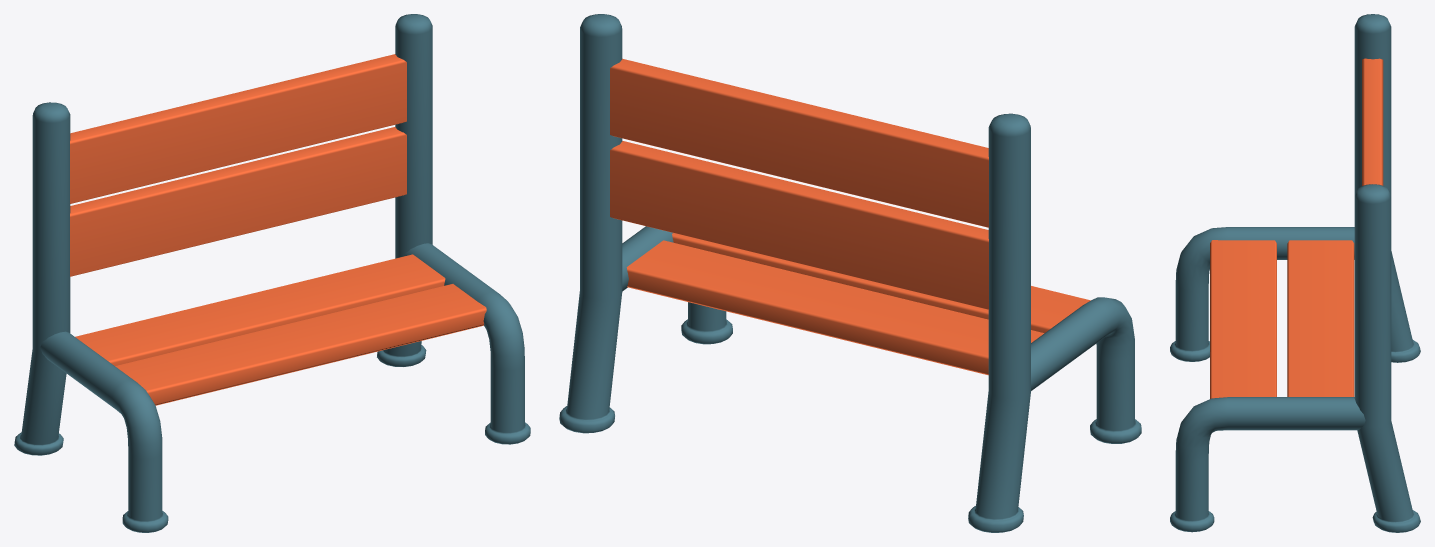
The model's file is City_2_Bench_1.glb.
3 renders of one model, left to right at view 1: azimuth 30°, elevation 25°; view 2: azimuth 150°, elevation 25°; view 3: azimuth 270°, elevation 25°, orthographic. The views are drawn at different scales.
Parts seen in each view (by area): view 1: City_2_Bench_1; view 2: City_2_Bench_1; view 3: City_2_Bench_1.
Boxes of the visible parts, x1,y1,x2,y2 form: City_2_Bench_1: [14, 14, 530, 532]; City_2_Bench_1: [559, 14, 1141, 532]; City_2_Bench_1: [1170, 14, 1420, 532].
Size of the model in its own units: 2.16 by 1.78 by 1.21.
1 material, 1 textured.
